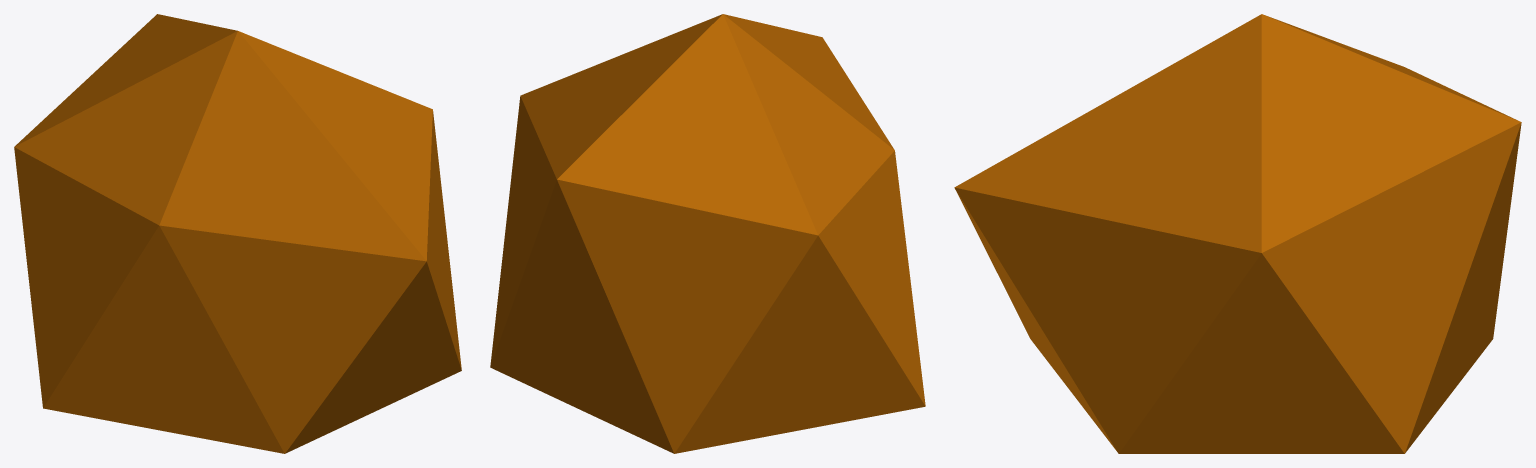
Rendered from Rock1.fbx.
The picture shows the model from 3 angles, left to right: view 1: azimuth 30°, elevation 25°; view 2: azimuth 150°, elevation 25°; view 3: azimuth 270°, elevation 25°; orthographic projection. The views are drawn at different scales.
Parts seen in each view (by area): view 1: Icosphere; view 2: Icosphere; view 3: Icosphere.
Part boxes in pixels (x1,y1,x2,y2): Icosphere: (14,14,461,453); Icosphere: (490,14,925,453); Icosphere: (954,14,1521,453).
Size of the model in its own units: 138 by 129 by 161.
